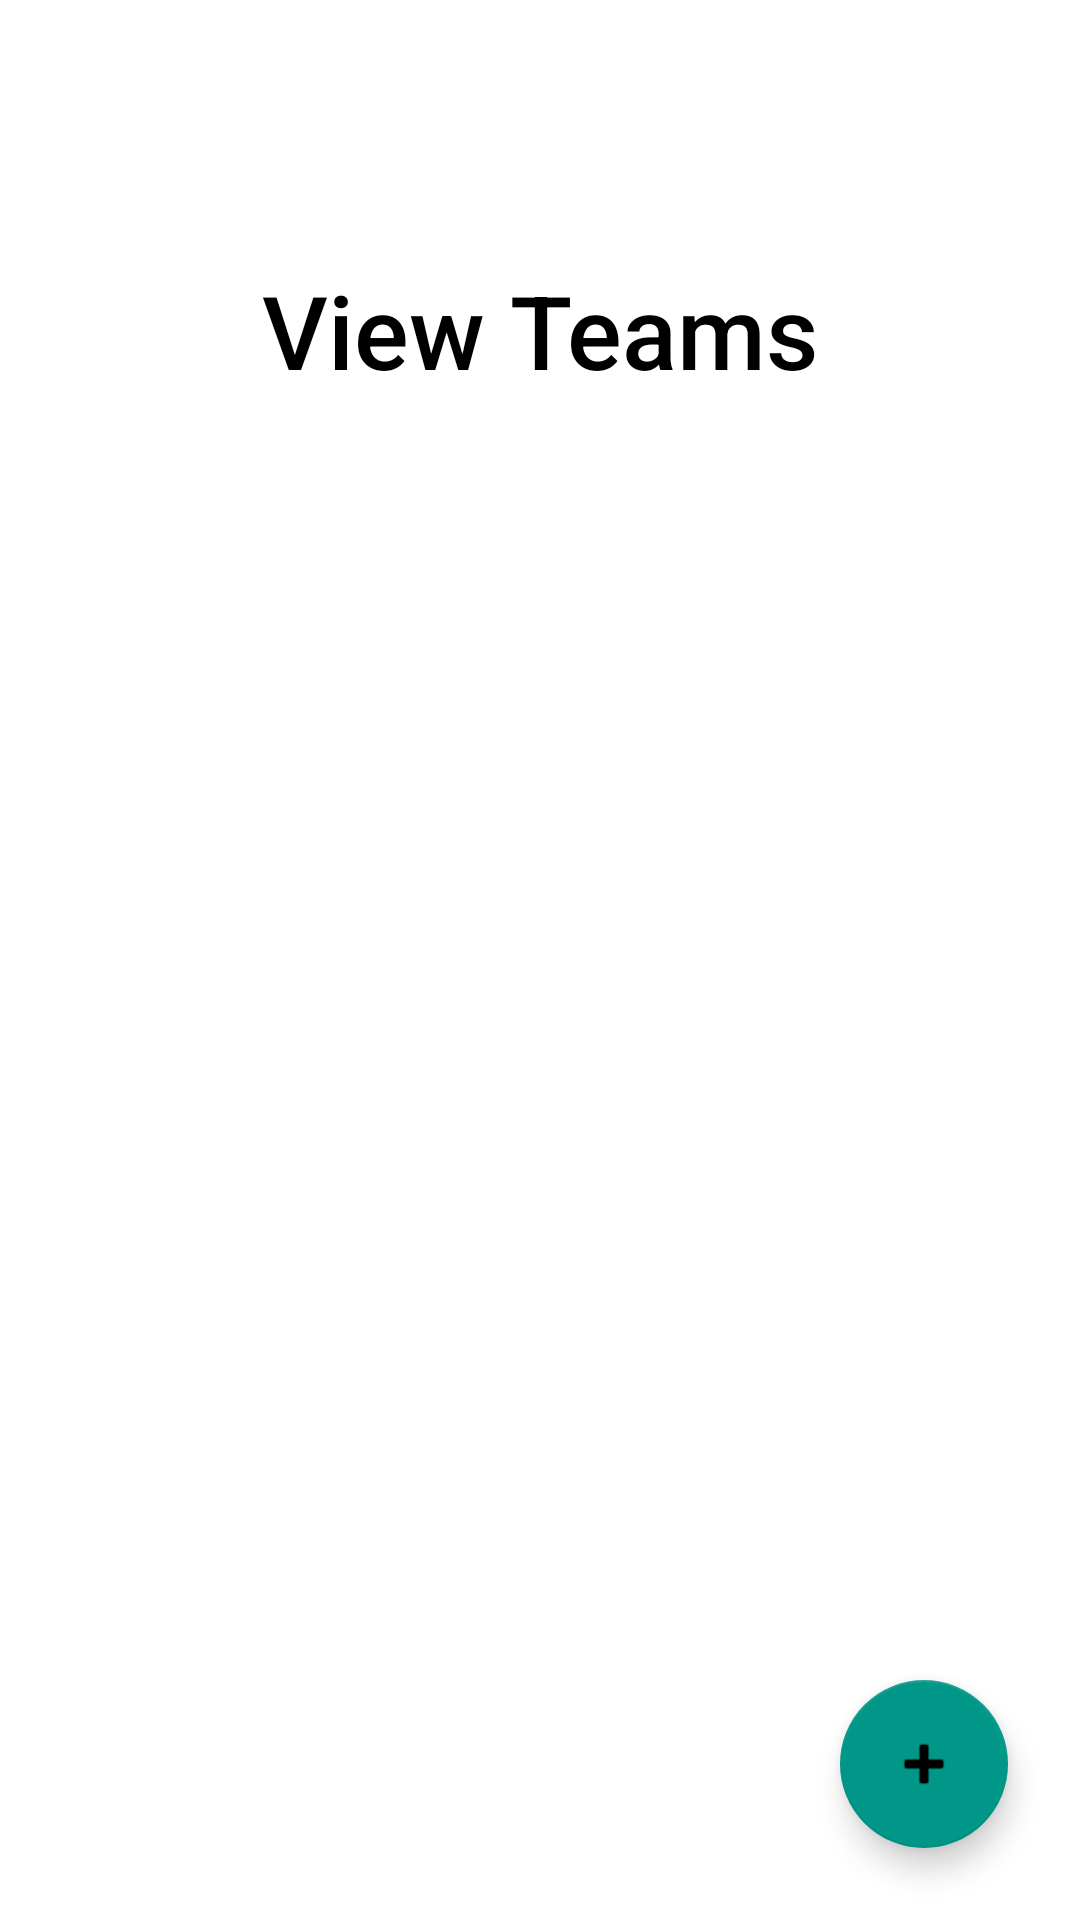

Screen size 1080x1920. Icon name, then its center in pixels as [x,y]:
Add Team Button: [924,1764]
